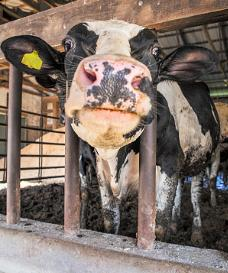cow: (1, 21, 218, 246)
